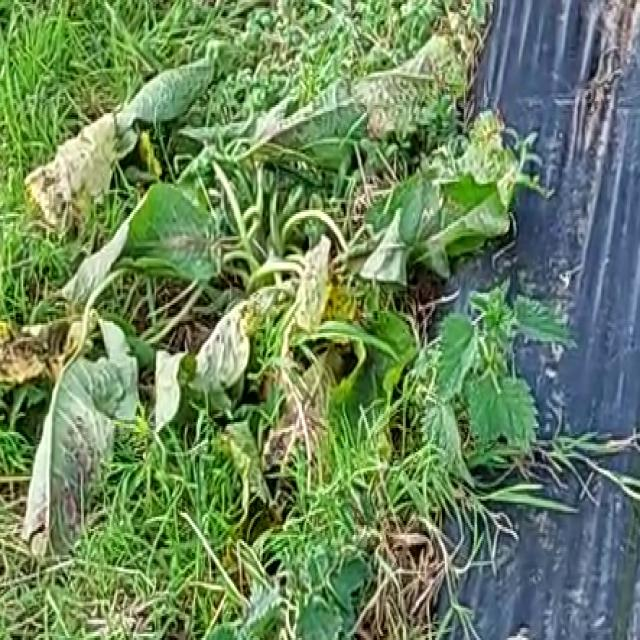organic waste: (30, 49, 533, 594)
